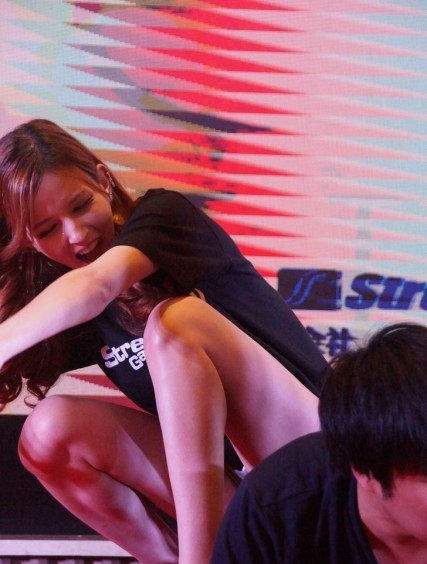face: (20, 167, 112, 277), (366, 451, 427, 560)
